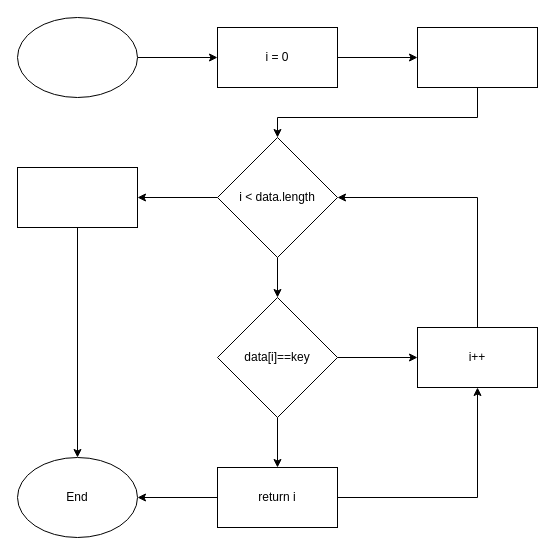
This 555x555 diagram has some shape labels left out. Each missing label, with the centre of its shape:
bubbleSort(data): the point at 477,57
return -1: the point at 77,197
sequentialSearch( int[] data, int key): the point at 77,57
